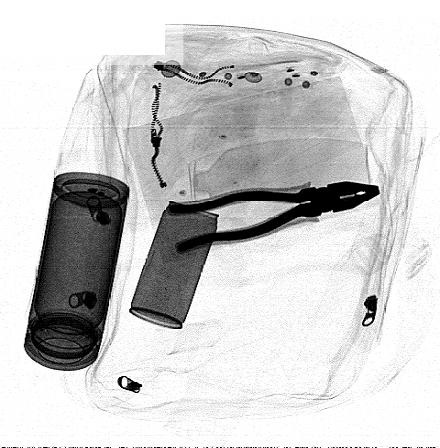Pliers: (165, 179, 381, 256)
